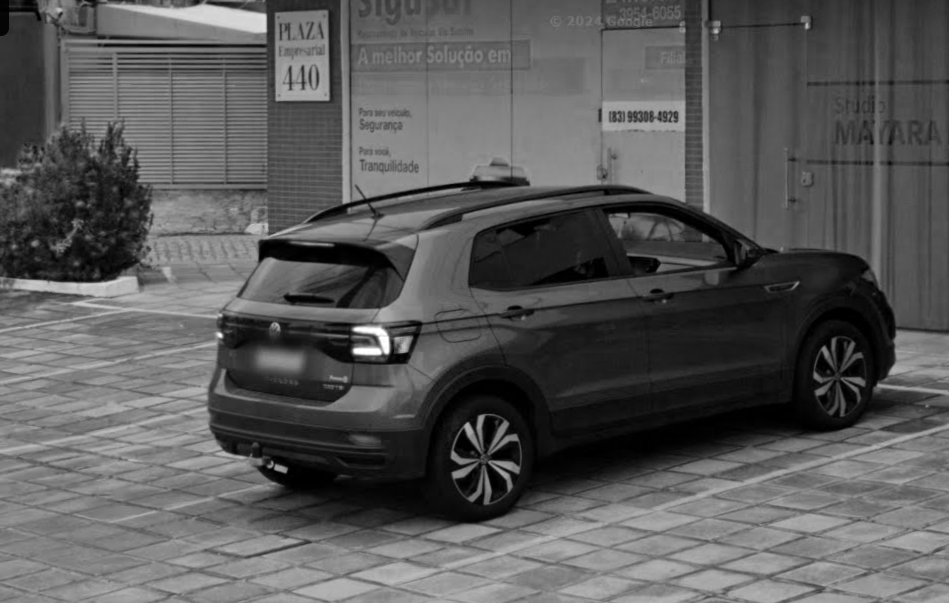car: (206, 179, 899, 522)
